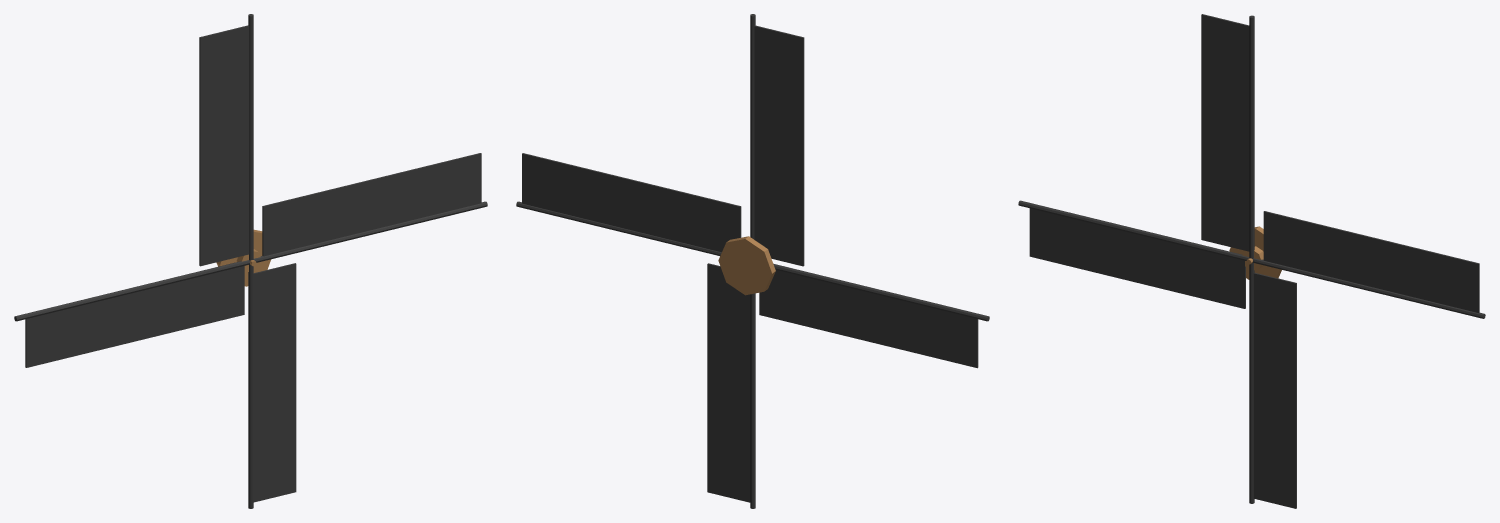
Rendered from mill_engine_final.fbx.
3 views of the same model, side by side, from view 1: azimuth 30°, elevation 25°; view 2: azimuth 150°, elevation 25°; view 3: azimuth 330°, elevation 25° (orthographic).
Visible parts, largest first — view 1: pCylinder6; view 2: pCylinder6; view 3: pCylinder6.
Part boxes in pixels (x1,y1,x2,y2): pCylinder6: [14, 14, 487, 508]; pCylinder6: [516, 14, 989, 508]; pCylinder6: [1018, 14, 1485, 508].
Size of the model in its own units: 7.62 by 7.62 by 0.3066.
